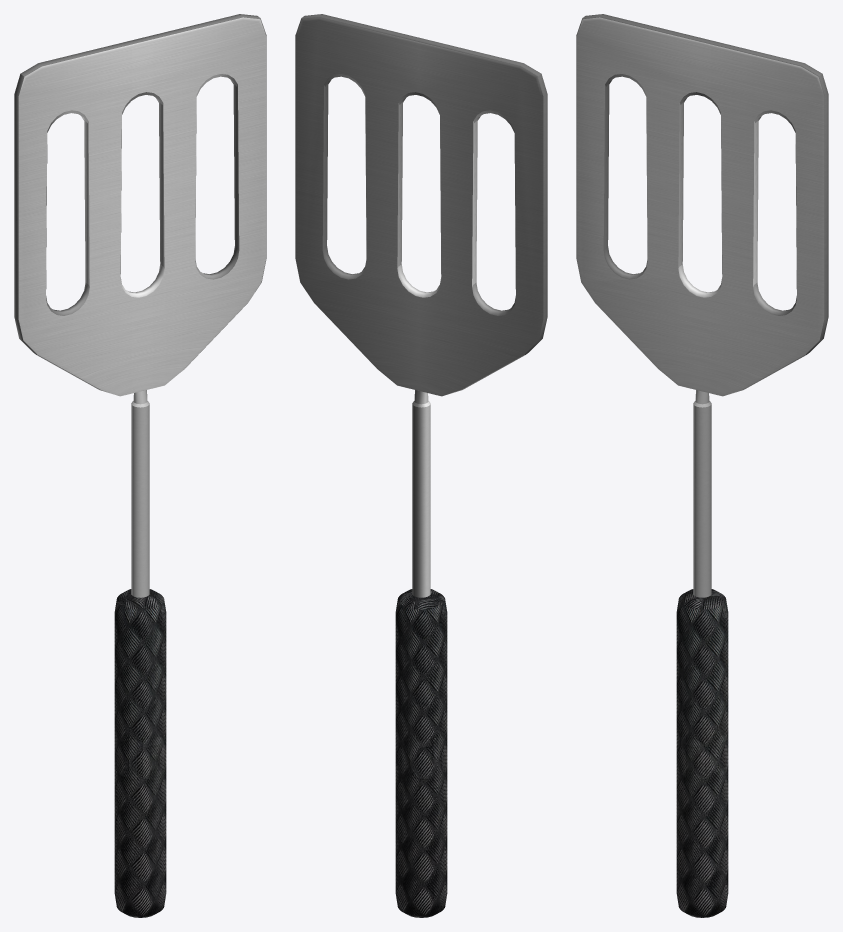
Rendered from spatula.fbx.
3 renders of one model, left to right at view 1: azimuth 30°, elevation 25°; view 2: azimuth 150°, elevation 25°; view 3: azimuth 330°, elevation 25°, orthographic.
Parts seen in each view (by area): view 1: Box001; view 2: Box001; view 3: Box001.
Part boxes in pixels (x1,y1,x2,y2): Box001: [14, 14, 266, 917]; Box001: [295, 14, 547, 917]; Box001: [576, 14, 828, 917].
Bounding box in the file's own units: 10.98 × 36.78 × 1.97.
